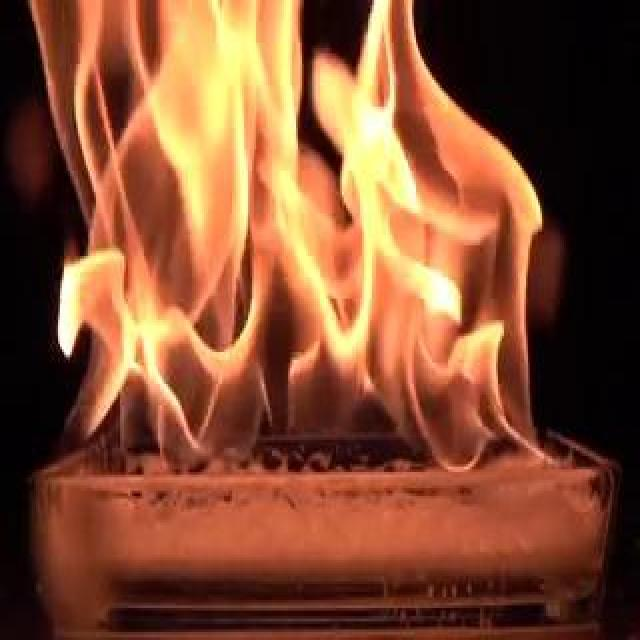Fire: (21, 2, 561, 482)
